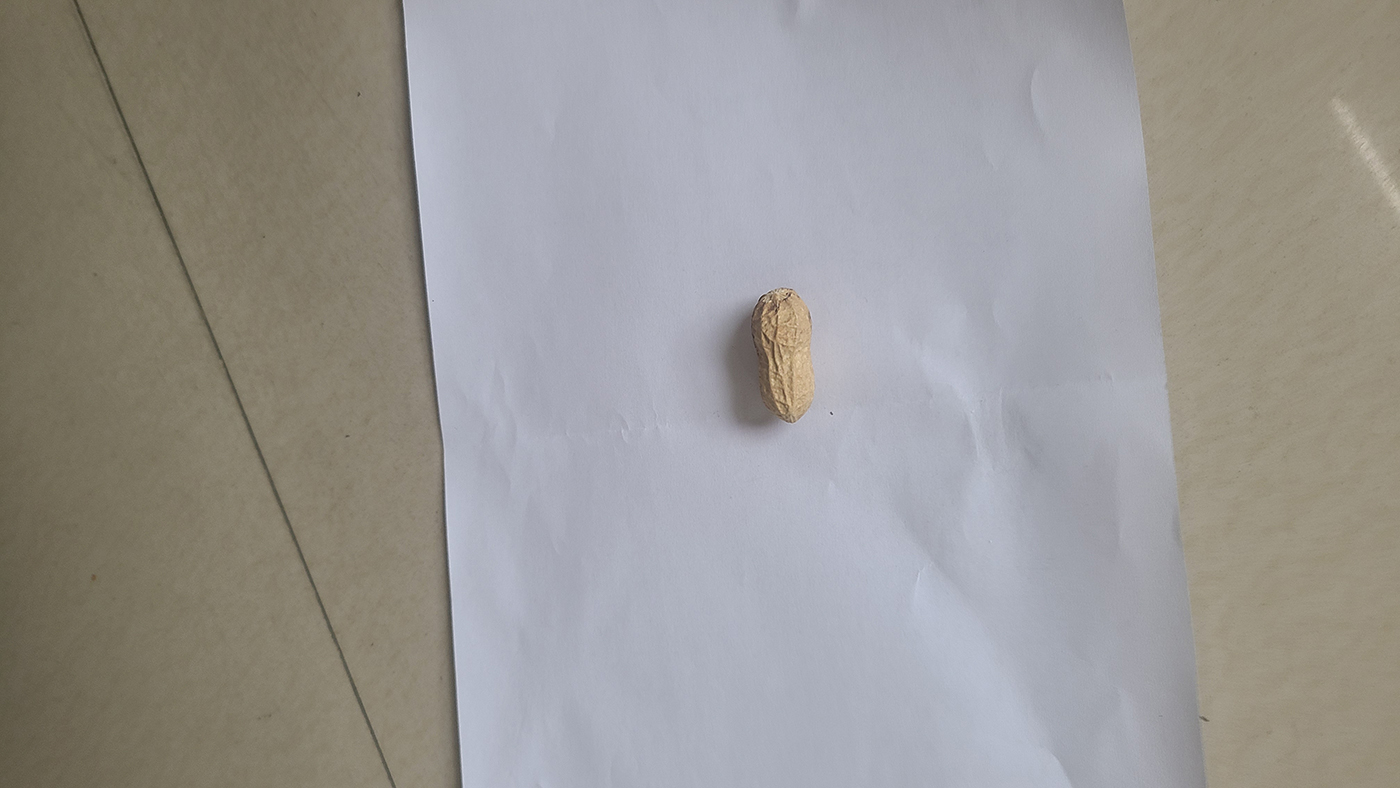h: (748, 286, 817, 422)
